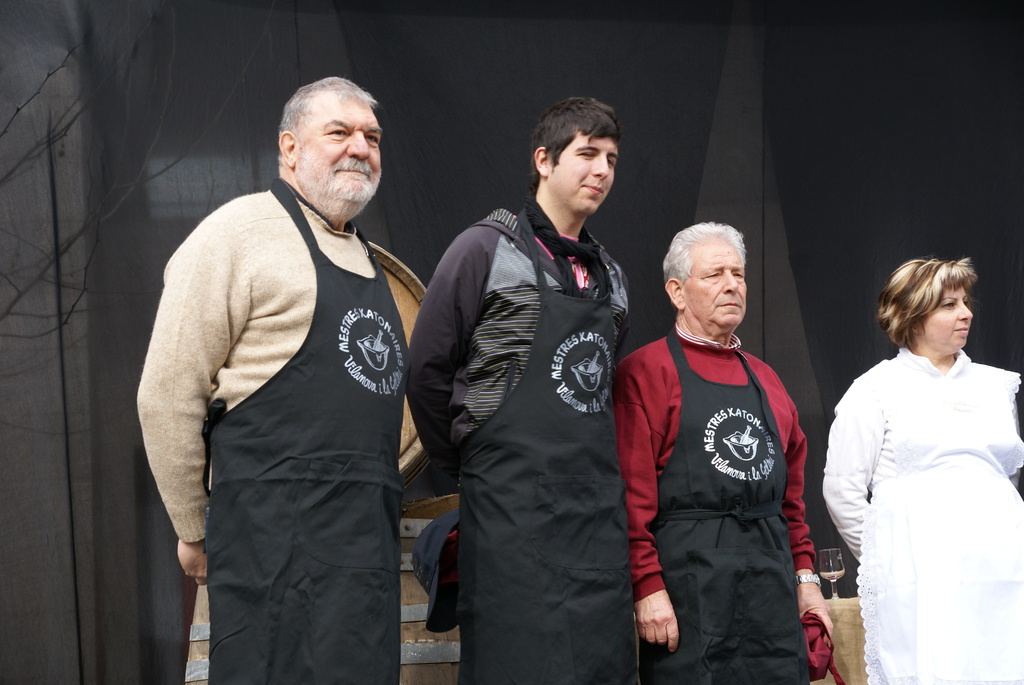Human-face: (296, 90, 378, 205), (552, 127, 620, 212), (686, 235, 744, 329), (914, 277, 976, 357)
